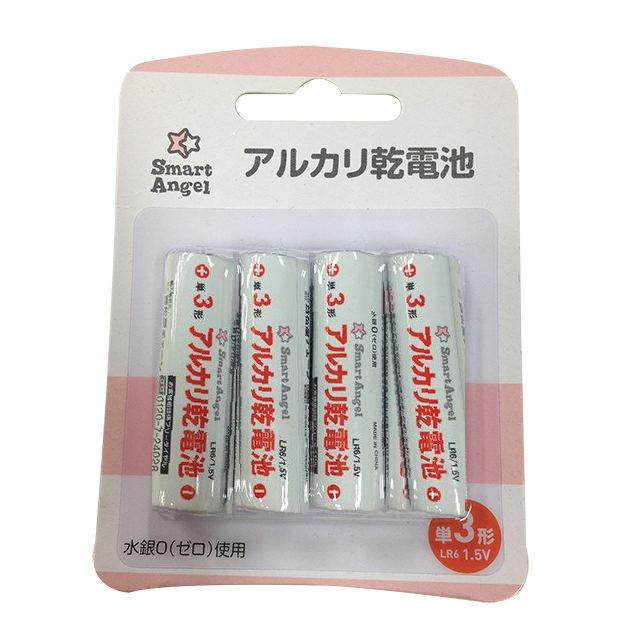battery: (152, 242, 240, 522), (380, 244, 465, 518), (233, 245, 310, 514), (310, 244, 386, 516)
